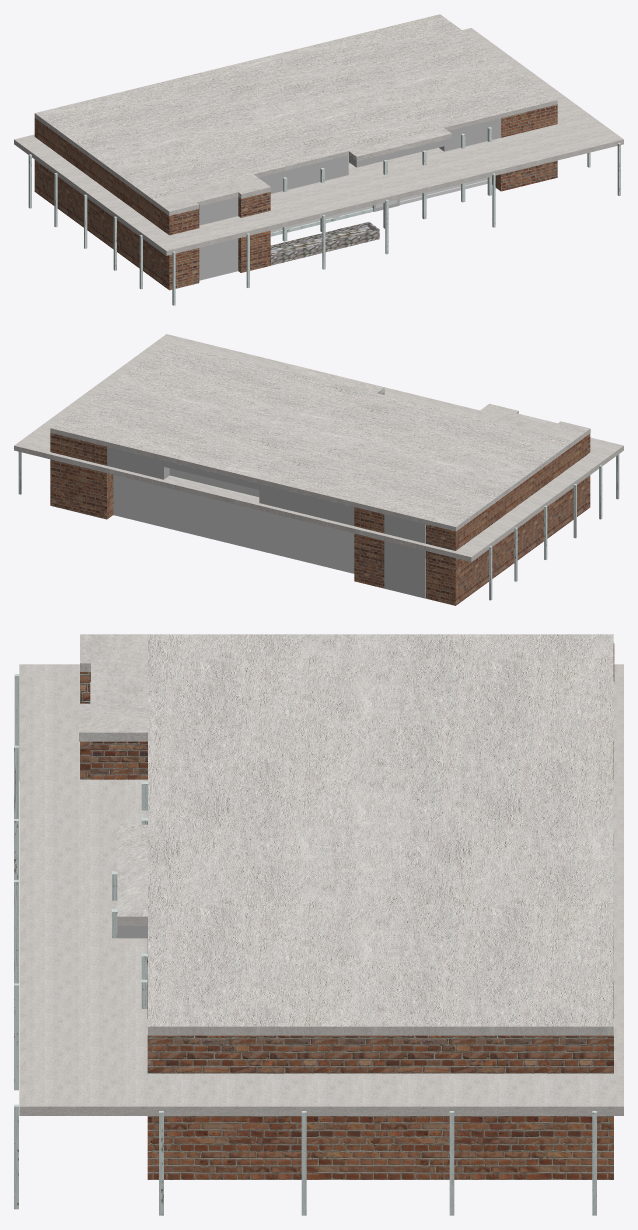
File: pickrick_final.fbx
The picture shows the model from 3 angles, top to bottom: view 1: azimuth 30°, elevation 25°; view 2: azimuth 150°, elevation 25°; view 3: azimuth 270°, elevation 25°; orthographic projection. The views are drawn at different scales.
Visible parts, largest first — view 1: Plane.001, Plane.005, Cube.011, roof.003, Cube.001, Cube.009, roof, Cube.008, roof.002, Cube, roof.001, Cube.003 (+1 smaller); view 2: Plane.001, Plane.005, Cube.003, Cube.011, roof.003, Cube, Cube.009, roof, roof.002, roof.001; view 3: Plane.001, Plane.005, roof.003, Cube.009.
Boxes of the visible parts, box(x1,y1,x2,y2) form: Plane.001: box(34, 14, 557, 215); Plane.005: box(14, 28, 623, 255); Cube.011: box(34, 118, 199, 290); roof.003: box(492, 104, 557, 191); Cube.001: box(270, 221, 379, 265); Cube.009: box(238, 192, 270, 272); roof: box(258, 155, 348, 193); Cube.008: box(199, 238, 238, 280); roof.002: box(439, 118, 500, 151); Cube: box(199, 197, 238, 225); roof.001: box(348, 138, 451, 167); Cube.003: box(270, 162, 487, 232); Plane.001: box(50, 342, 590, 531); Plane.005: box(14, 334, 623, 561); Cube.003: box(113, 468, 354, 573); Cube.011: box(426, 434, 590, 605); roof.003: box(50, 433, 113, 519); Cube: box(384, 514, 425, 598); Cube.009: box(354, 507, 425, 588); roof: box(259, 484, 354, 525); roof.002: box(107, 447, 169, 479); roof.001: box(164, 392, 384, 489); Plane.001: box(79, 634, 613, 1035); Plane.005: box(19, 664, 623, 1115); roof.003: box(147, 980, 613, 1179); Cube.009: box(80, 741, 613, 779).
Bounding box in the file's own units: 3877 × 638 × 2238.
